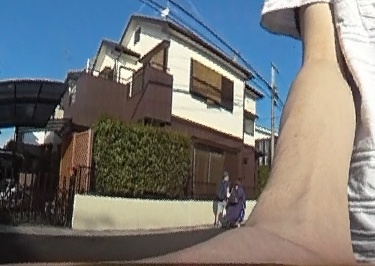person: (215, 169, 229, 224), (231, 179, 244, 220)
